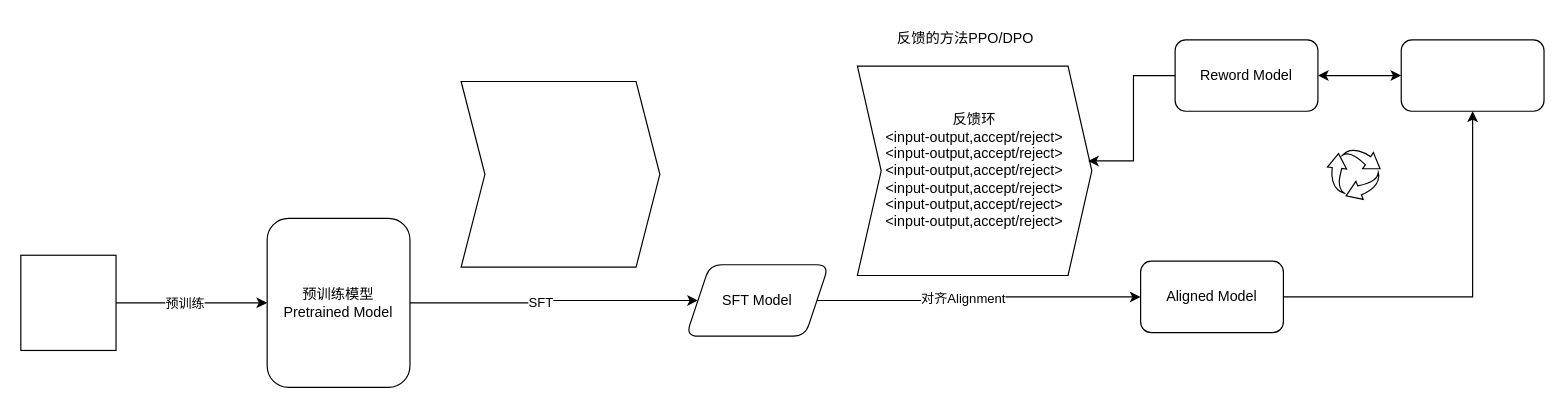
Image size: 1565x408. Some labels were removed from this diagram. Each missing label, with the box of its shape:
Mentor: (1400, 39, 1544, 111)
数据: (20, 254, 116, 350)
问答式 <input,output> <input,output> <input,output> <input,output> <input,output>: (460, 80, 660, 267)
